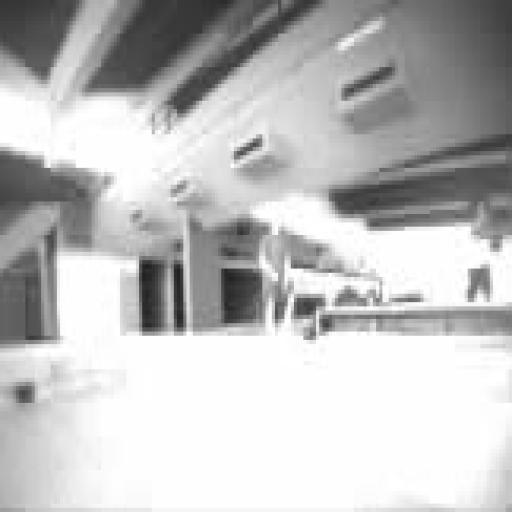human: (260, 223, 290, 331), (468, 240, 502, 302)
